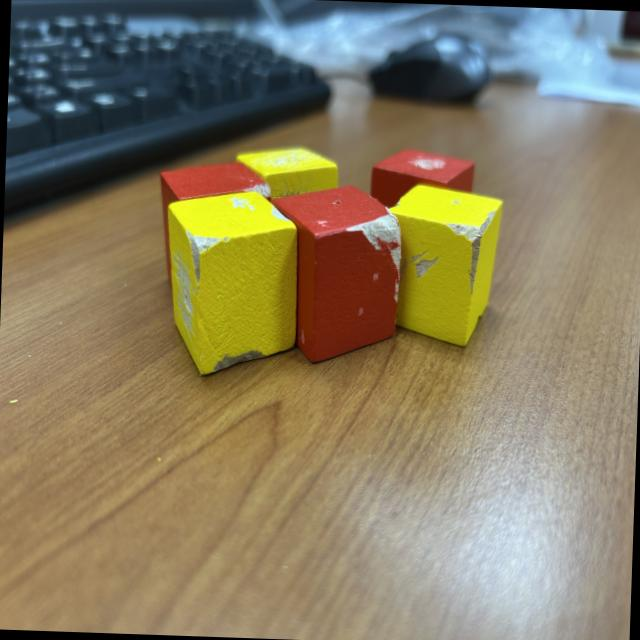broken: (162, 187, 302, 379), (266, 184, 404, 366), (370, 182, 504, 349), (155, 158, 273, 300), (366, 148, 474, 281), (229, 144, 340, 270)
